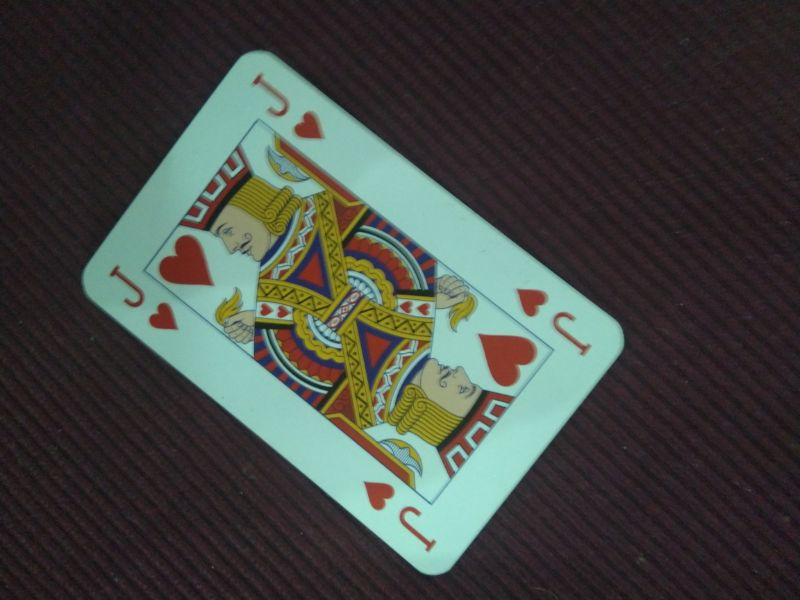Jh: (360, 474, 440, 555), (512, 280, 596, 356), (250, 69, 330, 145), (105, 262, 183, 332)
